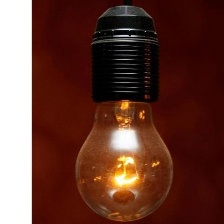light_bulb: (67, 92, 179, 224)
